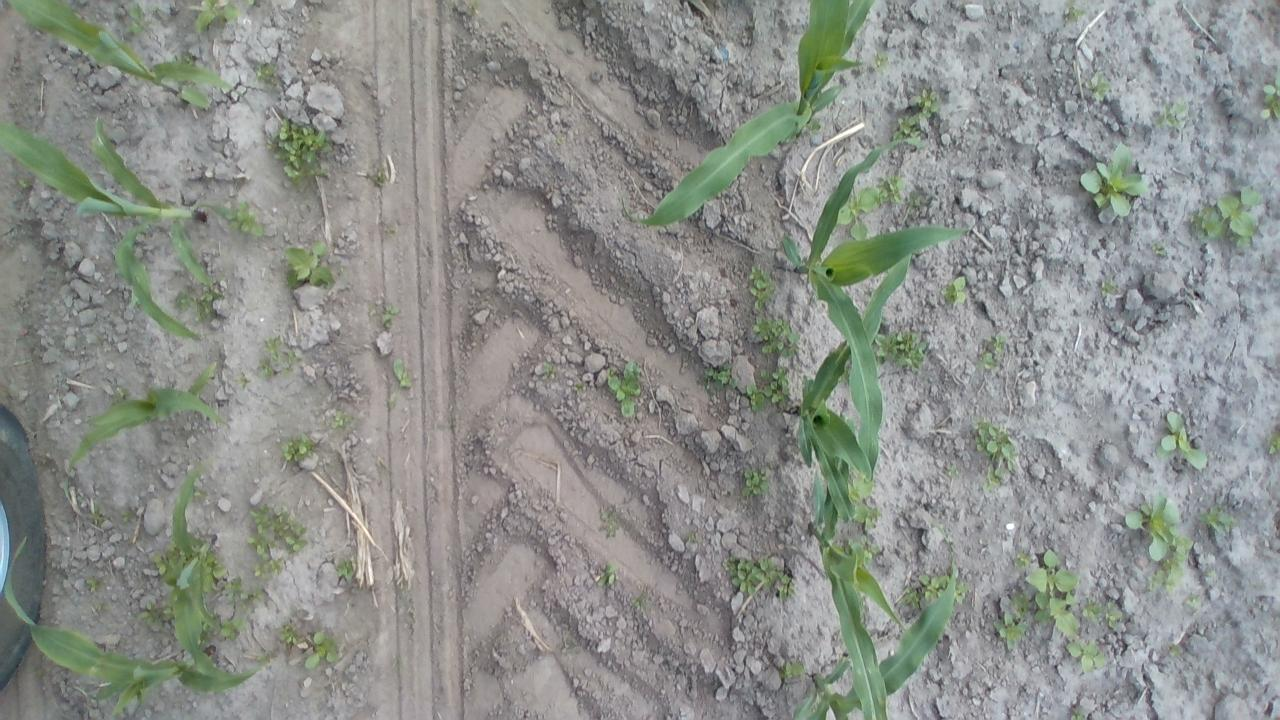Maize: (620, 0, 876, 224), (792, 422, 958, 720), (2, 536, 272, 715), (0, 114, 212, 340), (782, 138, 924, 475), (793, 251, 913, 522), (4, 0, 260, 116), (60, 362, 230, 520), (169, 460, 231, 681)
Weeds: (1079, 143, 1149, 218), (1024, 548, 1081, 638), (266, 116, 333, 190), (838, 173, 905, 240), (1190, 185, 1262, 246), (1125, 493, 1180, 561), (722, 556, 796, 601), (247, 504, 308, 558), (1155, 411, 1209, 470), (1148, 534, 1194, 596), (971, 415, 1017, 471), (284, 241, 336, 290), (872, 330, 929, 373), (892, 88, 939, 138), (751, 315, 800, 358), (846, 475, 883, 531), (607, 360, 642, 418), (746, 366, 790, 412), (194, 0, 240, 37), (991, 612, 1030, 650), (696, 362, 738, 396), (226, 201, 264, 237), (303, 631, 339, 669), (748, 265, 776, 312), (1066, 639, 1104, 672), (279, 432, 317, 463), (152, 540, 186, 574), (846, 534, 880, 567), (191, 290, 225, 322), (139, 598, 174, 628), (1152, 98, 1187, 128), (1198, 505, 1238, 531), (124, 0, 152, 36), (1261, 72, 1280, 122), (742, 466, 772, 497), (919, 574, 950, 602), (1086, 70, 1110, 102), (218, 616, 246, 642), (940, 276, 966, 304), (897, 584, 920, 613), (1009, 590, 1032, 618), (983, 463, 1005, 492), (252, 558, 282, 579), (262, 334, 283, 364), (392, 358, 412, 389), (601, 508, 621, 538), (204, 552, 227, 578), (225, 576, 248, 602), (1080, 598, 1103, 624), (280, 350, 302, 376), (1103, 601, 1123, 629), (596, 562, 618, 587), (278, 620, 298, 646), (253, 61, 276, 83), (1066, 0, 1086, 25), (381, 302, 400, 328), (985, 332, 1007, 354), (198, 620, 214, 650), (780, 660, 805, 679), (872, 49, 891, 73), (837, 354, 852, 384), (952, 579, 969, 605), (976, 351, 999, 370), (336, 557, 354, 581), (86, 502, 104, 524), (331, 411, 354, 428), (174, 290, 192, 311), (804, 115, 823, 134), (1014, 550, 1032, 570), (257, 356, 274, 377), (171, 52, 195, 66), (1267, 430, 1280, 455), (250, 584, 266, 604), (112, 387, 129, 404), (371, 168, 388, 185), (1102, 278, 1118, 296), (630, 594, 647, 610), (90, 598, 104, 616), (542, 360, 554, 381), (120, 508, 136, 523), (236, 371, 248, 390), (86, 576, 100, 592), (1070, 708, 1088, 720), (1185, 595, 1201, 608), (1152, 242, 1166, 256), (190, 489, 207, 499), (945, 464, 959, 476), (1169, 642, 1180, 656), (17, 178, 32, 188), (236, 601, 249, 612), (208, 608, 218, 622), (388, 392, 398, 406), (48, 569, 61, 579), (368, 300, 376, 316), (1204, 568, 1216, 578), (573, 382, 584, 392), (242, 0, 258, 5), (688, 532, 696, 541)
